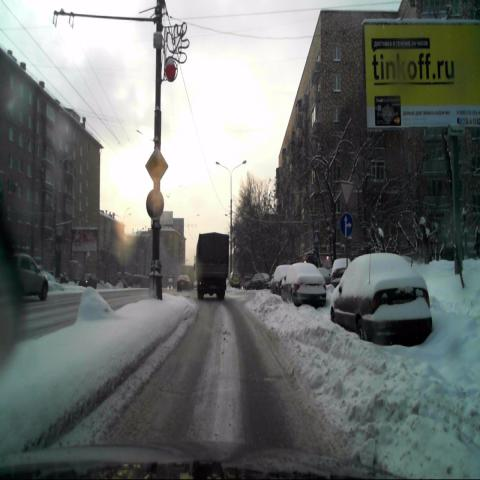4_1_4: (341, 212, 353, 235)
